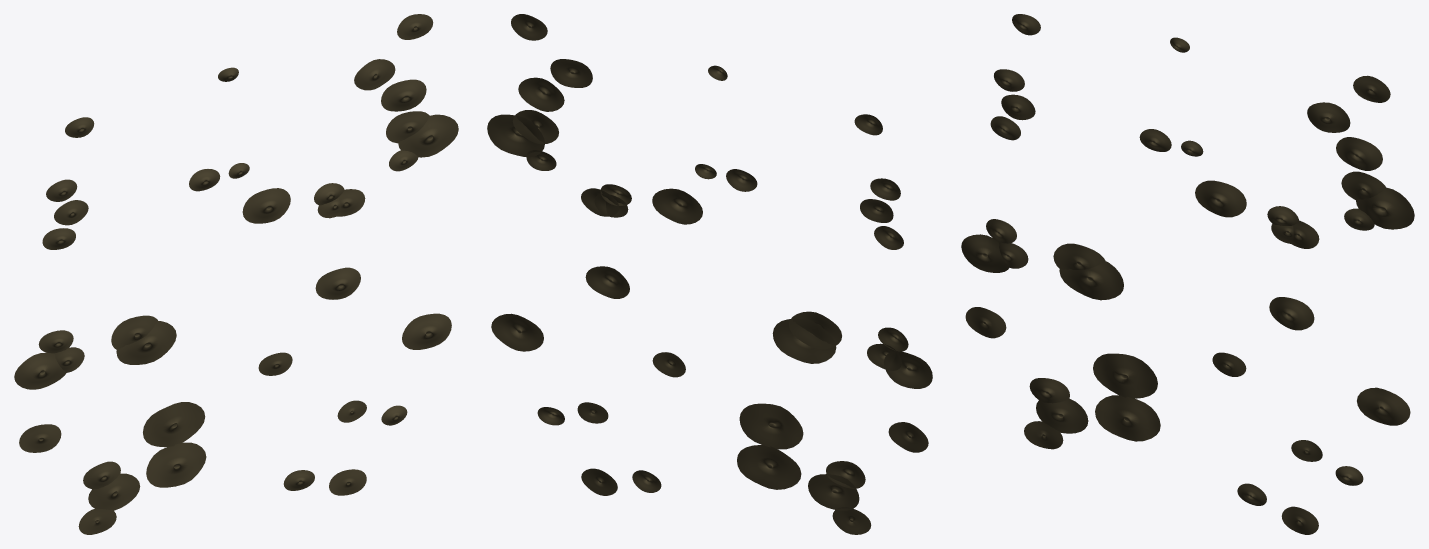
Rendered from sediment.obj.
3 renders of one model, left to right at view 1: azimuth 30°, elevation 25°; view 2: azimuth 150°, elevation 25°; view 3: azimuth 330°, elevation 25°, orthographic. The views are drawn at different scales.
Visible parts, largest first — view 1: sediment; view 2: sediment; view 3: sediment.
Part boxes in pixels (bbox=[...]): sediment: bbox=[14, 14, 458, 534]; sediment: bbox=[487, 14, 932, 534]; sediment: bbox=[961, 14, 1414, 534].
Bounding box in the file's own units: 35.15 × 34.97 × 0.821.
